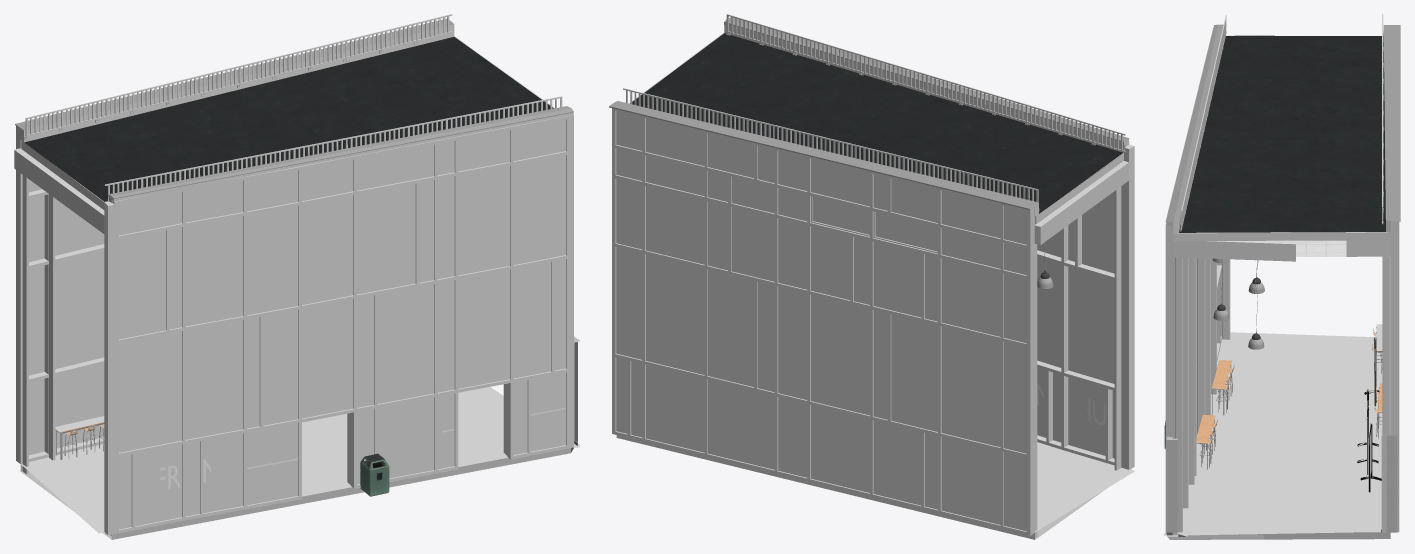
The model's file is imp_0_floor_hall_sized.glb.
3 renders of one model, left to right at view 1: azimuth 30°, elevation 25°; view 2: azimuth 150°, elevation 25°; view 3: azimuth 270°, elevation 25°, orthographic. The views are drawn at different scales.
Visible parts, largest first — view 1: SIMP_COL, NOCOL_Cube_143, NOCOL_Murs, NOCOL_Cube_144, NOCOL_Murs2, NOCOL_Cube_1519, NOCOL_Sol, NOCOL_Plafond, NOCOL_S_Trash_Can_uhrgdbffa_lod5_Var3; view 2: SIMP_COL, NOCOL_Cube_143, NOCOL_Murs, NOCOL_Cube_1519, NOCOL_Cube_144, NOCOL_Murs2, NOCOL_Plafond; view 3: NOCOL_Cube_143, SIMP_COL, NOCOL_Murs2, NOCOL_Murs, NOCOL_Plafond, NOCOL_Cube_1519, NOCOL_Sol, NOCOL_Ufr_MIM_V14_Table_19, NOCOL_Cube_144, NOCOL_Ufr_MIM_V14_Table_18.
Part boxes in pixels (x1=…): SIMP_COL: x1=21, y1=115, x2=580, y2=534; NOCOL_Cube_143: x1=15, y1=18, x2=573, y2=209; NOCOL_Murs: x1=16, y1=115, x2=572, y2=535; NOCOL_Cube_144: x1=24, y1=14, x2=452, y2=140; NOCOL_Murs2: x1=22, y1=175, x2=580, y2=535; NOCOL_Cube_1519: x1=104, y1=96, x2=562, y2=202; NOCOL_Sol: x1=20, y1=447, x2=573, y2=539; NOCOL_Plafond: x1=14, y1=148, x2=104, y2=233; NOCOL_S_Trash_Can_uhrgdbffa_lod5_Var3: x1=360, y1=453, x2=389, y2=496; SIMP_COL: x1=612, y1=108, x2=1134, y2=539; NOCOL_Cube_143: x1=609, y1=17, x2=1129, y2=224; NOCOL_Murs: x1=612, y1=108, x2=1134, y2=535; NOCOL_Cube_1519: x1=726, y1=14, x2=1125, y2=152; NOCOL_Cube_144: x1=623, y1=88, x2=1039, y2=211; NOCOL_Murs2: x1=1035, y1=186, x2=1121, y2=537; NOCOL_Plafond: x1=1034, y1=161, x2=1128, y2=244; NOCOL_Cube_143: x1=1165, y1=24, x2=1400, y2=241; SIMP_COL: x1=1163, y1=257, x2=1386, y2=539; NOCOL_Murs2: x1=1166, y1=256, x2=1397, y2=536; NOCOL_Murs: x1=1165, y1=221, x2=1399, y2=533; NOCOL_Plafond: x1=1174, y1=240, x2=1390, y2=261; NOCOL_Cube_1519: x1=1180, y1=15, x2=1226, y2=231; NOCOL_Sol: x1=1220, y1=532, x2=1390, y2=539; NOCOL_Ufr_MIM_V14_Table_19: x1=1212, y1=360, x2=1231, y2=414; NOCOL_Cube_144: x1=1382, y1=14, x2=1383, y2=224; NOCOL_Ufr_MIM_V14_Table_18: x1=1196, y1=414, x2=1215, y2=469.
Size of what is drawn, in the model's own units: 15.45 by 11.63 by 7.56.
18 materials, 9 textured.
